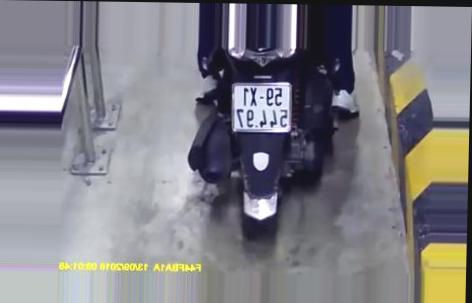License_Plate: (224, 79, 300, 135)
